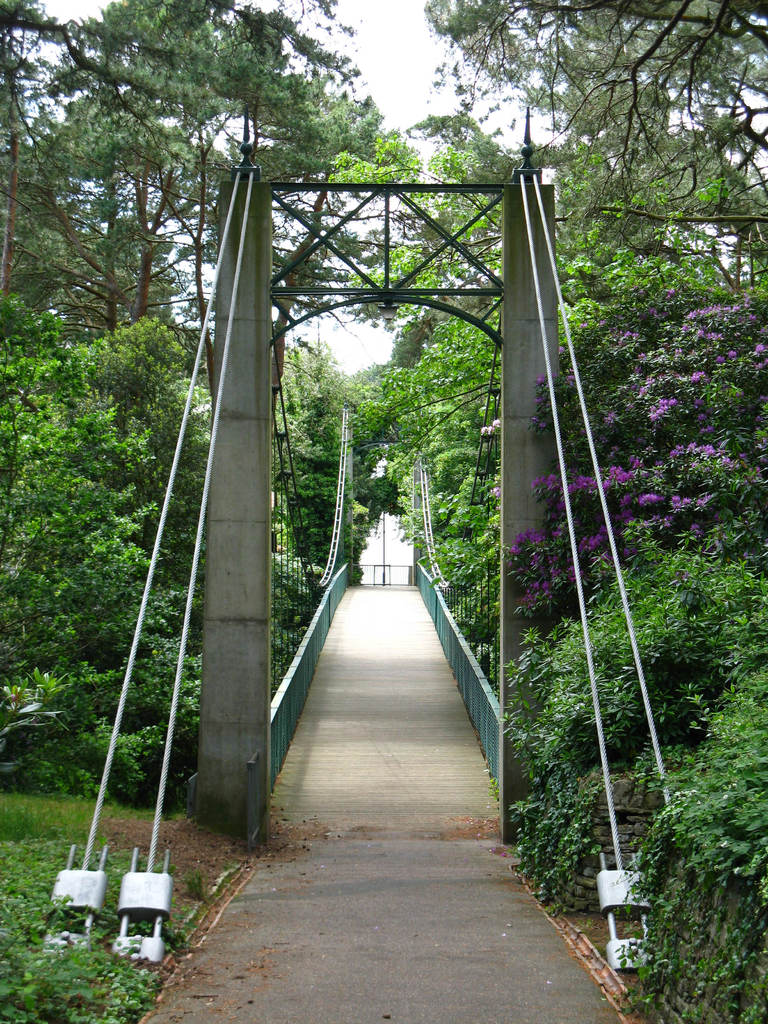Tree: (0, 3, 768, 1020)
